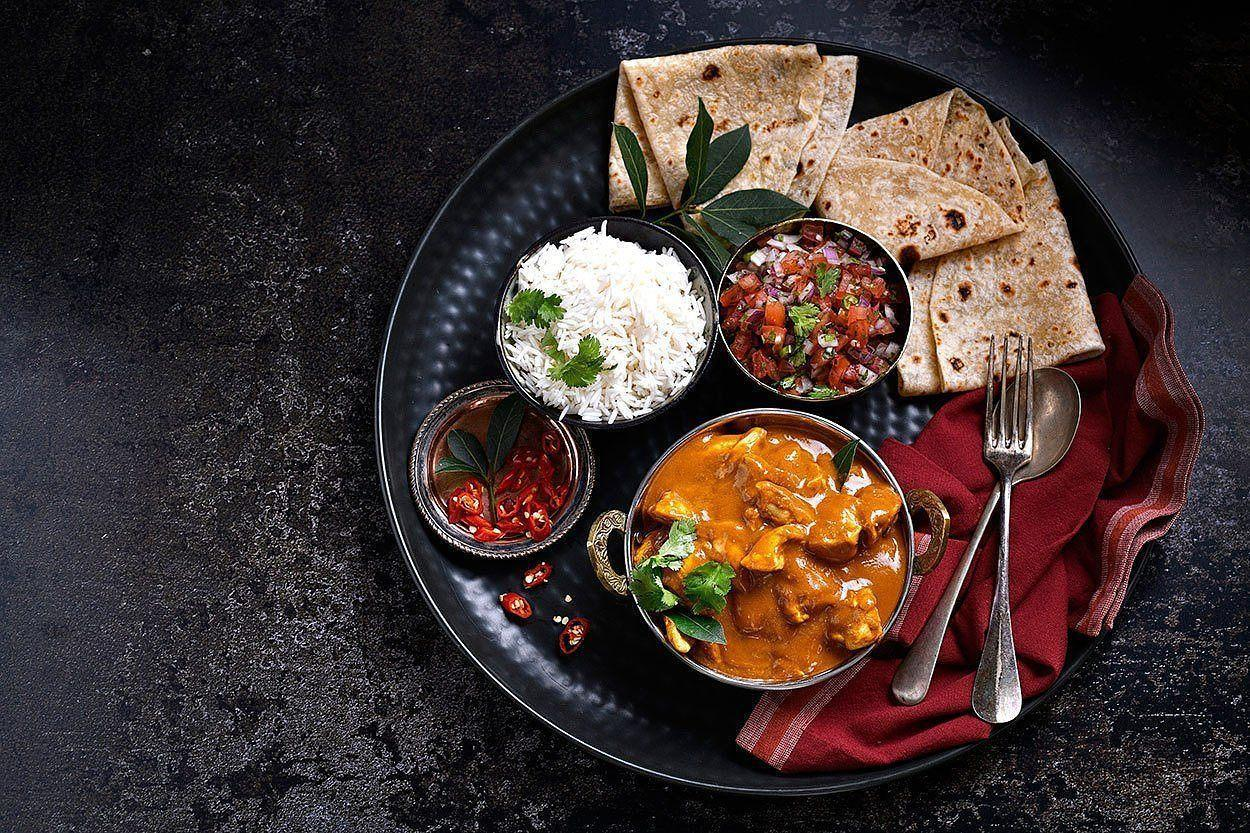chicken: (632, 439, 915, 685)
rice: (505, 256, 695, 402)
roti: (610, 44, 1065, 244)
